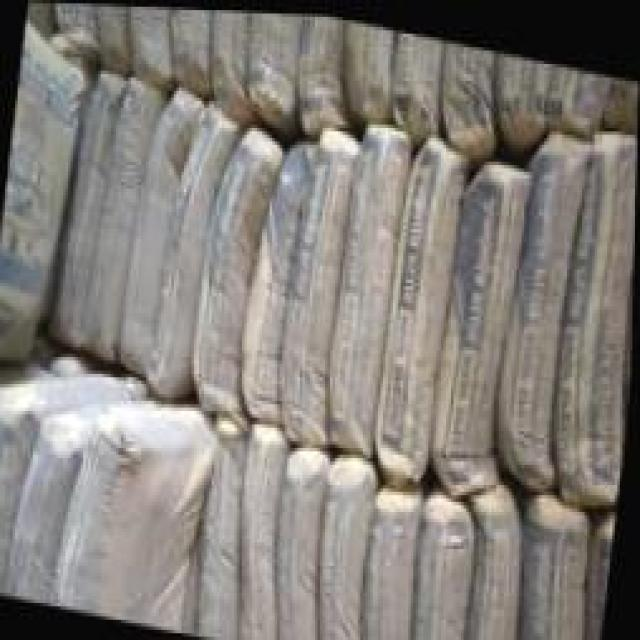gunny_bag: (46, 402, 216, 630), (372, 127, 473, 487), (0, 363, 146, 591), (431, 159, 529, 498), (494, 127, 586, 485), (551, 126, 638, 498), (0, 15, 90, 368), (143, 90, 242, 395), (325, 120, 411, 467), (189, 121, 286, 413), (82, 67, 169, 364), (118, 79, 203, 377), (281, 127, 357, 438), (50, 57, 130, 351), (3, 399, 112, 602), (242, 128, 314, 424), (195, 409, 247, 640), (520, 484, 589, 640), (236, 429, 286, 640), (276, 444, 329, 640), (318, 455, 373, 640), (363, 484, 426, 640), (416, 486, 477, 640), (469, 481, 523, 640), (437, 35, 492, 155), (245, 10, 301, 125), (296, 12, 347, 133), (494, 45, 547, 151), (392, 26, 442, 137), (340, 14, 390, 124), (208, 8, 255, 118), (546, 57, 611, 127), (128, 5, 176, 93), (172, 7, 212, 96), (93, 4, 131, 74), (600, 69, 639, 131), (59, 2, 93, 43)
